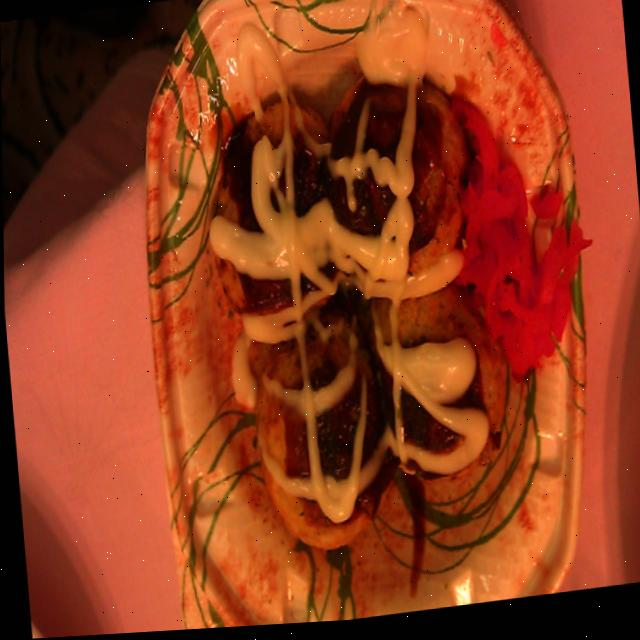炸货点心: (138, 0, 600, 634)
